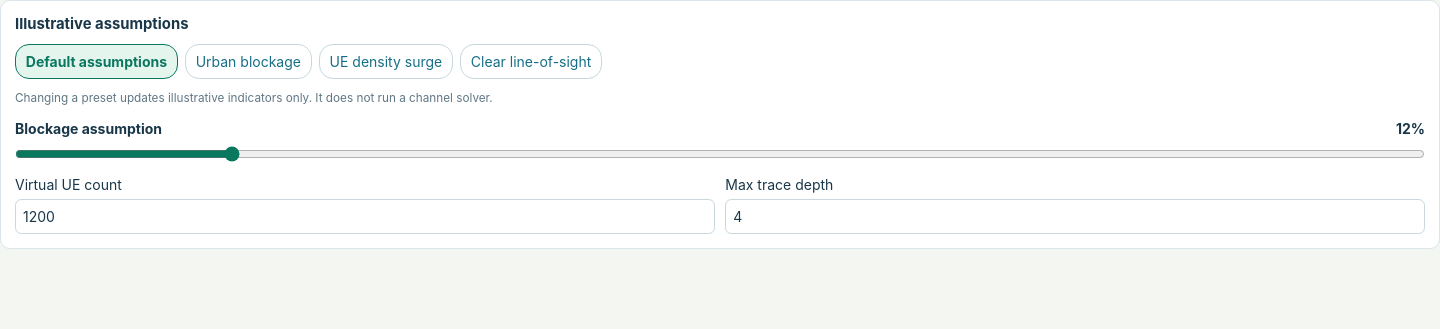
Mission Control scenario controls (not yet routed) › retains an unsaved numeric draft and labels an asynchronous save failure accurately
Replace the text in the number field labelled "Virtual UE count" with "2400" at x=365, y=216, box [15,199,715,234]
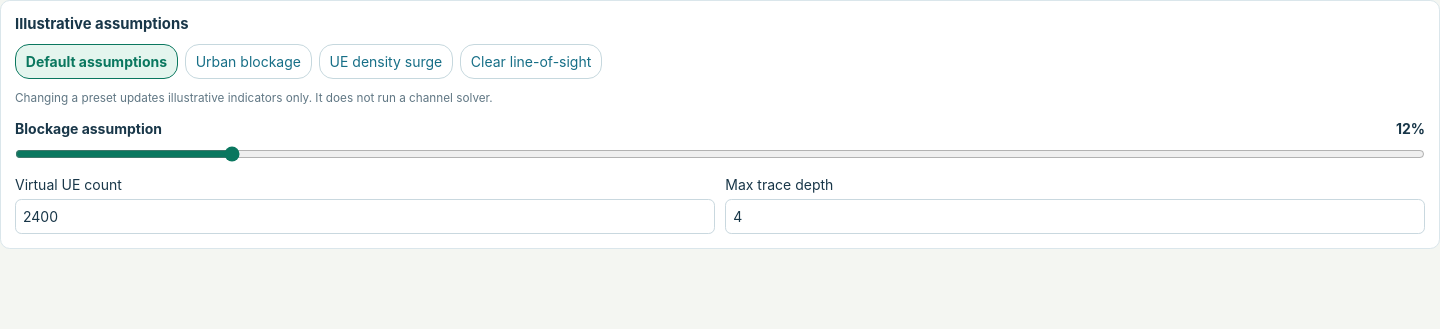
Leave the number field labelled "Virtual UE count", box [15,199,715,234]
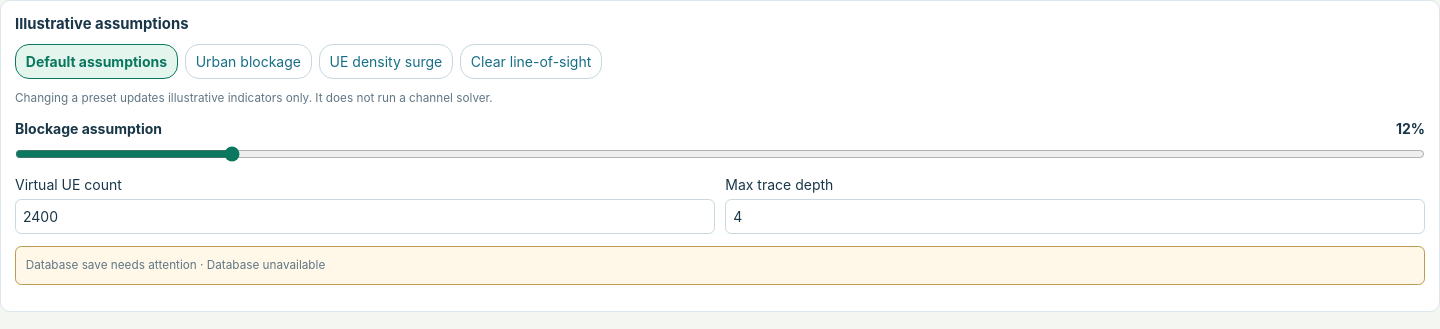
expect the message reads "Database save needs attention · Database unavailable": met, box [15,246,1425,285]
